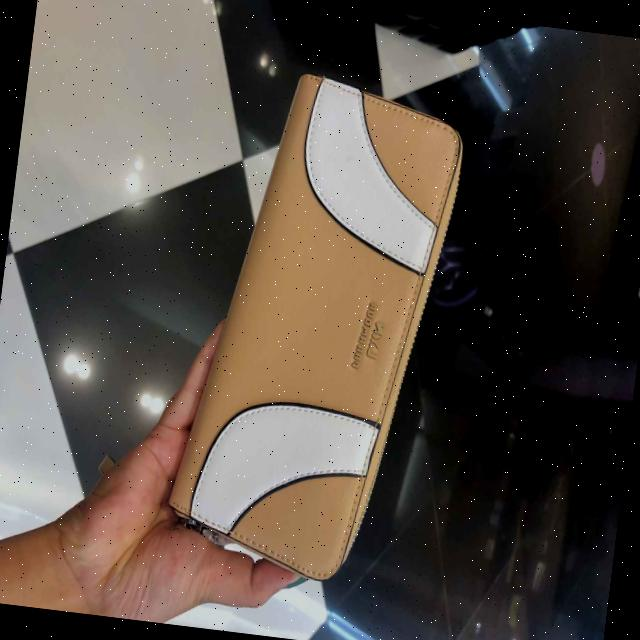Handbag: (156, 56, 472, 591)
